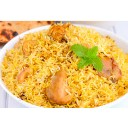briyani: (10, 31, 128, 103)
